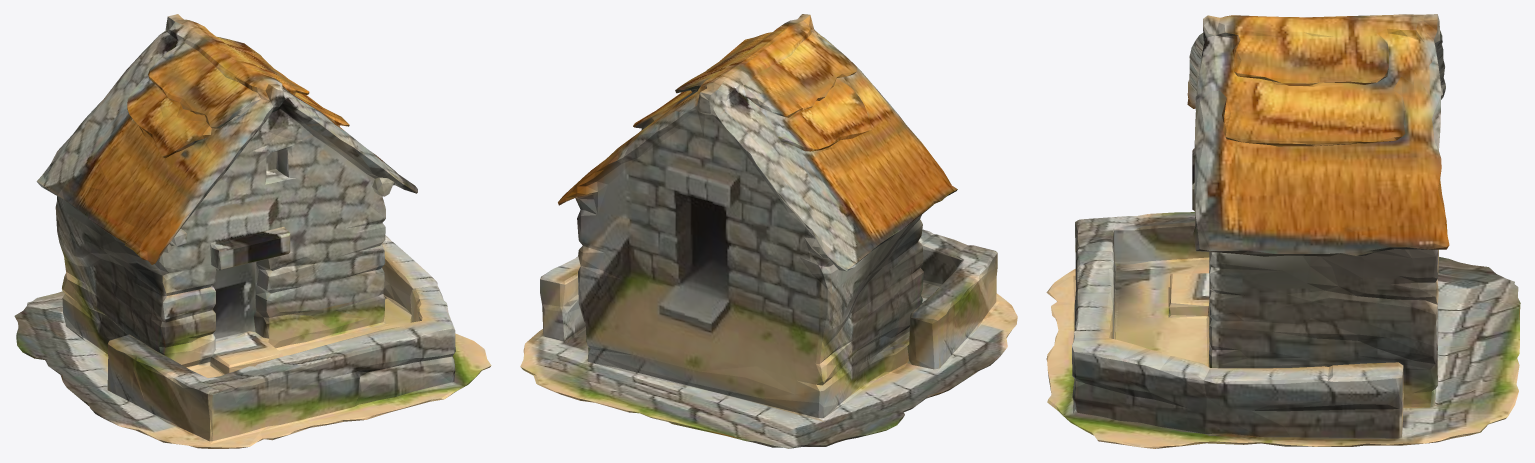
File: casa.glb
3 views of the same model, side by side, from view 1: azimuth 30°, elevation 25°; view 2: azimuth 150°, elevation 25°; view 3: azimuth 270°, elevation 25° (orthographic). The views are drawn at different scales.
Parts seen in each view (by area): view 1: geometry_0; view 2: geometry_0; view 3: geometry_0.
Part boxes in pixels (x1,y1,x2,y2): geometry_0: (14,14,491,448); geometry_0: (520,14,1017,448); geometry_0: (1046,14,1520,448).
Bounding box in the file's own units: 1.3 × 1 × 1.3.
1 material, 1 textured.
